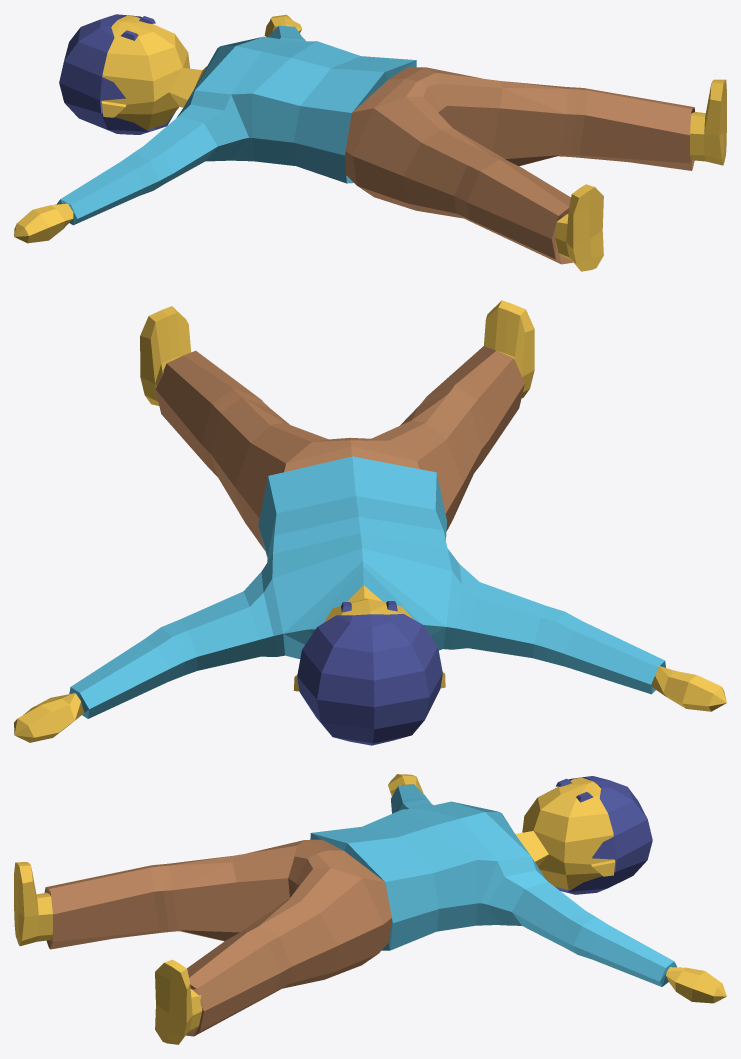
The model's file is 105_寝転がり(Man).glb.
3 views of the same model, one above another, from view 1: azimuth 30°, elevation 25°; view 2: azimuth 150°, elevation 25°; view 3: azimuth 270°, elevation 25° (orthographic). The views are drawn at different scales.
Visible parts, largest first — view 1: 立方体040_2, 立方体040_3, 立方体040_1, 立方体040; view 2: 立方体040_3, 立方体040_2, 立方体040, 立方体040_1; view 3: 立方体040_2, 立方体040_3, 立方体040_1, 立方体040.
Boxes of the visible parts, x1=… form: 立方体040_2: x1=345, y1=67, x2=694, y2=264; 立方体040_3: x1=57, y1=25, x2=416, y2=225; 立方体040_1: x1=14, y1=14, x2=726, y2=271; 立方体040: x1=59, y1=14, x2=175, y2=134; 立方体040_3: x1=69, y1=456, x2=665, y2=718; 立方体040_2: x1=155, y1=346, x2=524, y2=550; 立方体040: x1=297, y1=601, x2=442, y2=745; 立方体040_1: x1=14, y1=300, x2=726, y2=742; 立方体040_2: x1=44, y1=839, x2=392, y2=1036; 立方体040_3: x1=310, y1=784, x2=676, y2=986; 立方体040_1: x1=14, y1=774, x2=726, y2=1044; 立方体040: x1=555, y1=776, x2=652, y2=894.
Size of the model in its own units: 2.08 by 0.4006 by 2.18.
